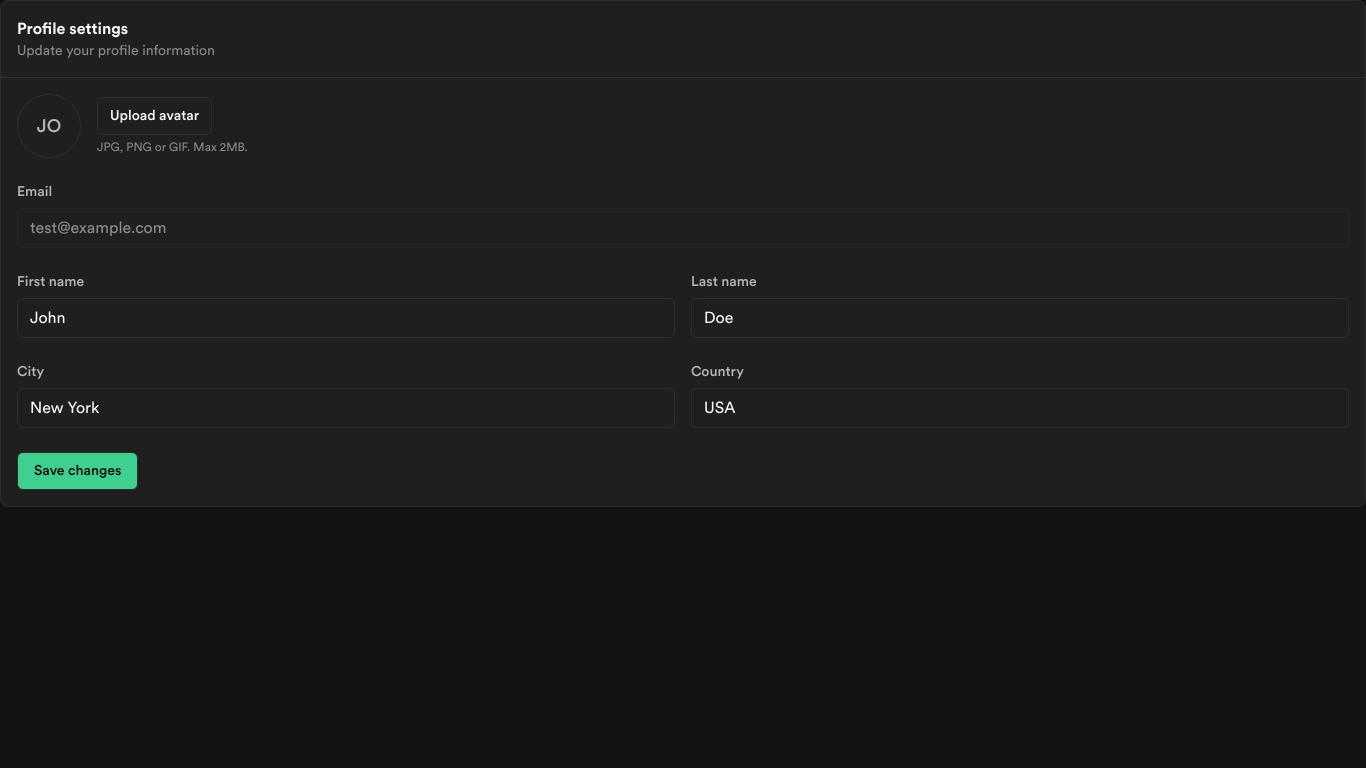
Test: ProfileForm component › when submitting the form › should show success message on successful update
This screenshot has width=1366, height=768.
Click the button "Save changes".
click(78, 471)  # box [17,452,138,490]
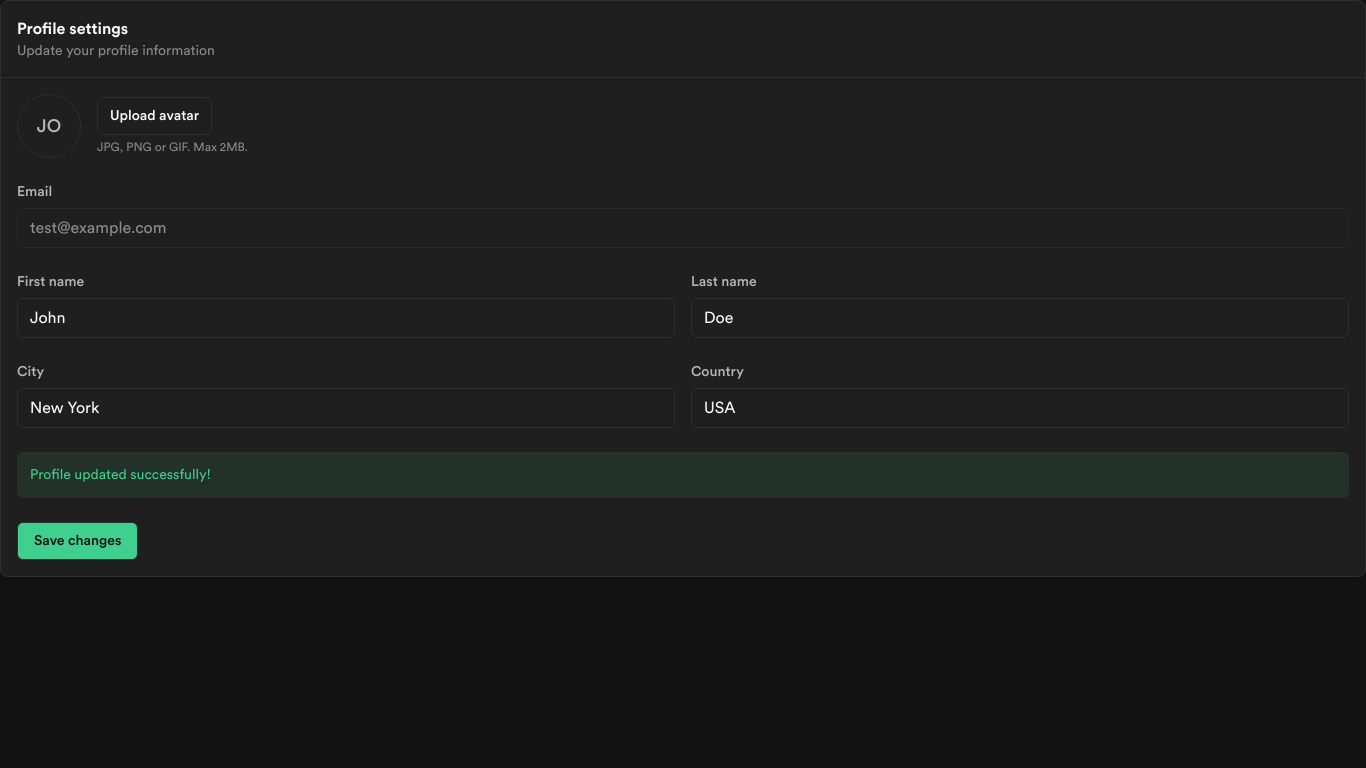
Result: the text "Profile updated successfully!" is shown at [30,468,211,482]
